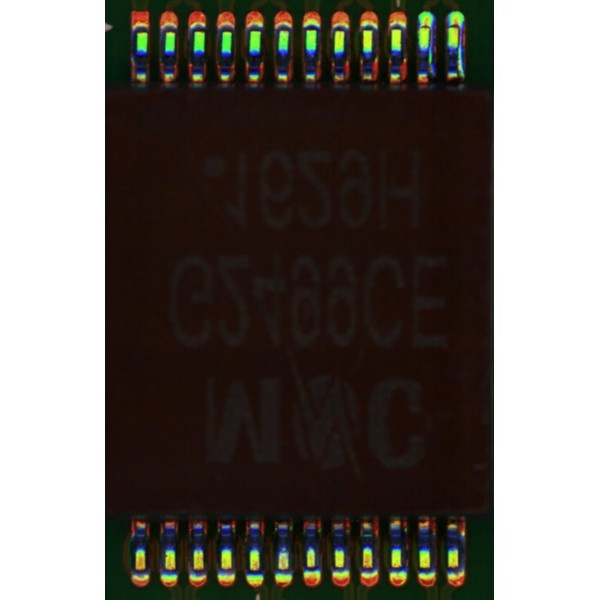Bad_podu: (449, 21, 459, 32), (421, 22, 431, 33)
Bad_qiaojiao: (428, 31, 435, 78), (458, 28, 464, 78)
